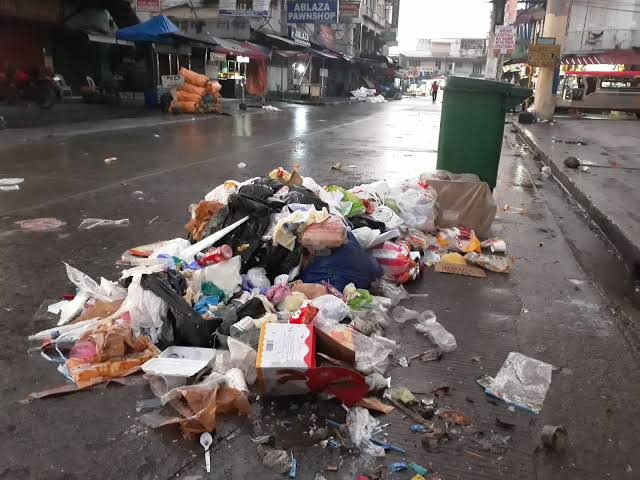garbage: (188, 176, 442, 383), (62, 253, 397, 382), (123, 299, 444, 432), (494, 350, 562, 411), (543, 424, 570, 451)
